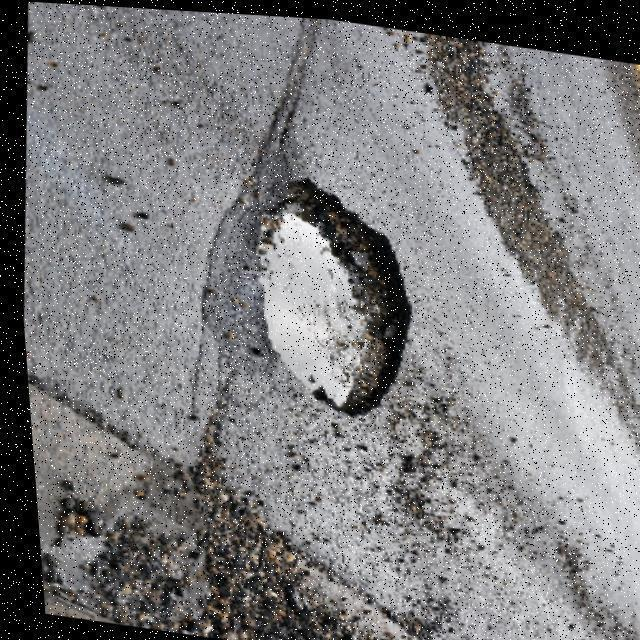Pothole: (253, 176, 413, 419)
